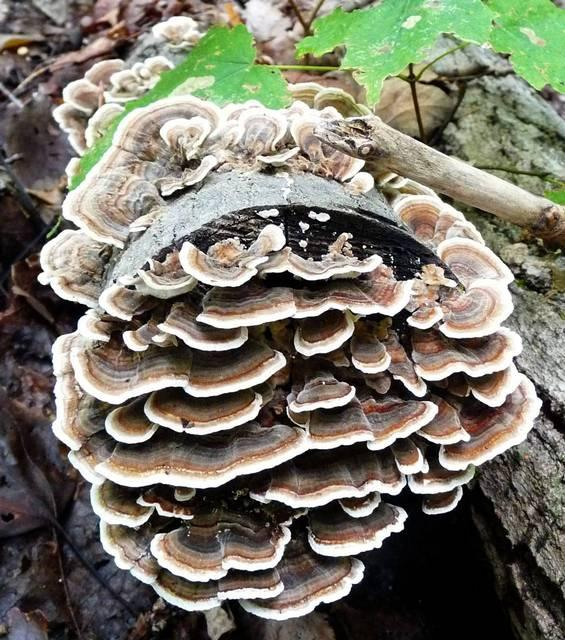poisonous_mushroom: (38, 90, 543, 624)
